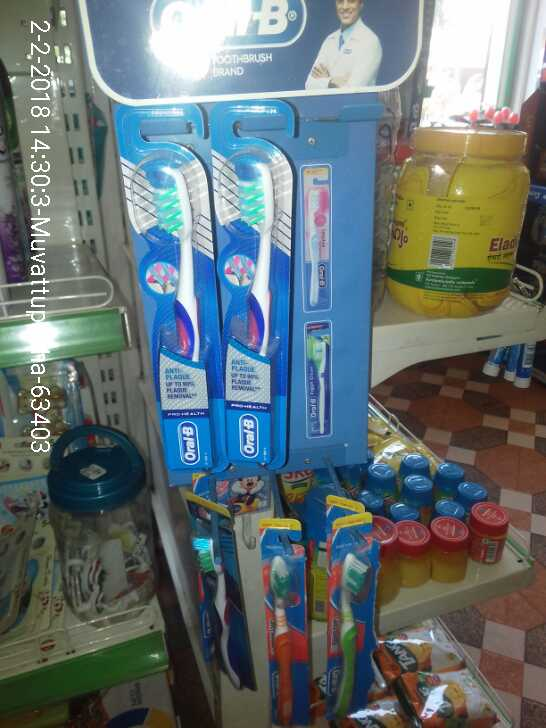oralb: (114, 102, 209, 475), (212, 105, 299, 469)
